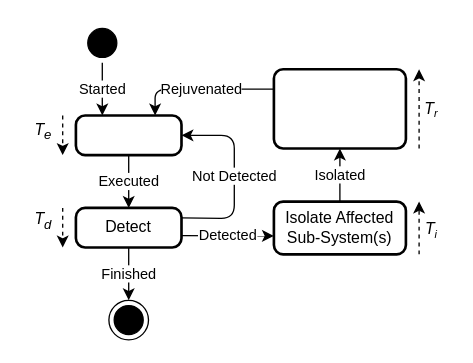
Image size: 473x363. Some labels were removed from this diagram. Here are the shapes that lost their labels. From the top down, the box of each, then its label:
(272, 67, 407, 149): Restore or Recreate the State of Affected (Sub-) System(s)
(74, 114, 182, 156): Execute
